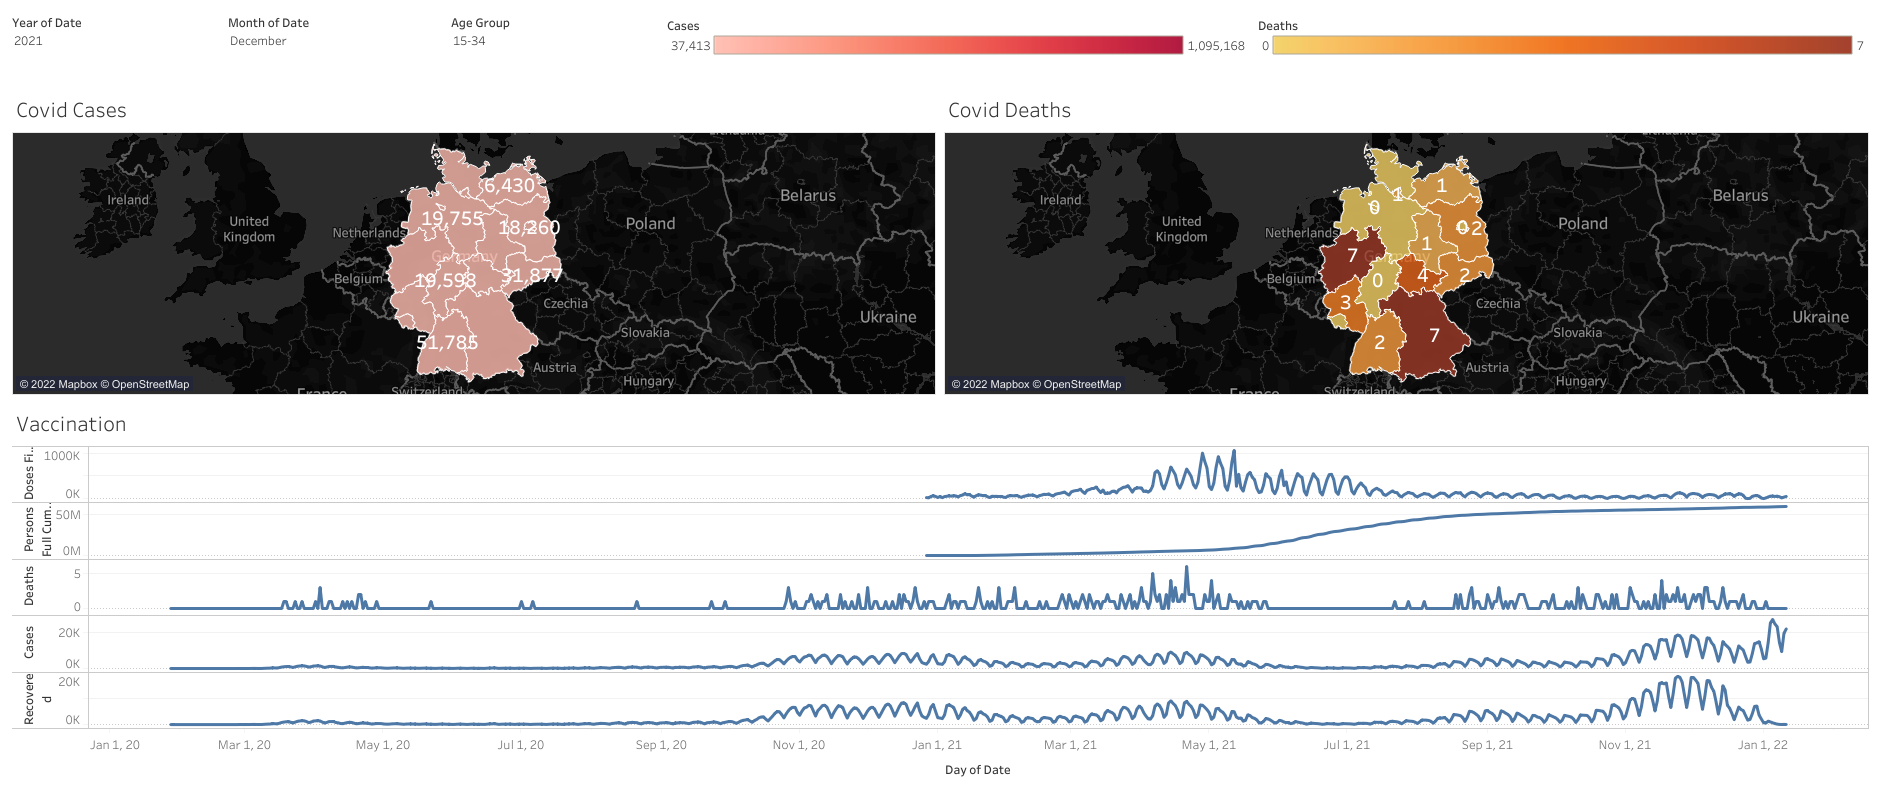

What the dashboard file says about the page in this screenshot:
{"tool":"tableau","page":{"name":"Covid Analysis in Germany","canvas":[1000,1000],"units":"permille","ordinal":0},"visuals":[{"type":"filter","title":"Covid Deaths","param":"[federated.0uc5llx0ka8o541am2q520jbo6i2].[yr:date:ok]","box":[4.7,8.8,126.4,96.3]},{"type":"filter","title":"Covid Deaths","param":"[federated.0uc5llx0ka8o541am2q520jbo6i2].[mn:date:ok]","box":[131.1,8.8,130.5,96.3]},{"type":"filter","title":"Covid Cases","param":"[federated.0uc5llx0ka8o541am2q520jbo6i2].[none:age_group:nk]","box":[261.6,8.8,126.4,96.3]},{"type":"legend","title":"Covid Cases","param":"[federated.0uc5llx0ka8o541am2q520jbo6i2].[sum:cases:qk]","box":[387.9,8.8,278.5,96.3]},{"type":"legend","title":"Covid Deaths","param":"[federated.0uc5llx0ka8o541am2q520jbo6i2].[sum:deaths:qk]","box":[666.5,8.8,328.9,96.3]},{"type":"worksheet","title":"Covid Cases","mark":"Automatic","box":[4.7,105.2,495.3,394.9]},{"type":"worksheet","title":"Covid Deaths","mark":"Automatic","box":[500,105.2,495.3,394.9]},{"type":"worksheet","title":"Vaccination","mark":"Automatic","rows":["doses_first","persons_full_cumul","deaths","cases","recovered"],"cols":["date"],"box":[4.7,500,990.6,491.2]}]}

Visuals, with their boxes on the dashboard's canvas, which has no fixed pixel size, in thousandths of its width and height (x1, y1, x2, y2). These are canvas units, not pixel positions in the 1880x797 screenshot, which may show the page scaled, cropped or inside an application window:
"Covid Deaths" filter: bbox(5, 9, 131, 105)
"Covid Deaths" filter: bbox(131, 9, 262, 105)
"Covid Cases" filter: bbox(262, 9, 388, 105)
"Covid Cases" legend: bbox(388, 9, 666, 105)
"Covid Deaths" legend: bbox(666, 9, 995, 105)
"Covid Cases" worksheet: bbox(5, 105, 500, 500)
"Covid Deaths" worksheet: bbox(500, 105, 995, 500)
"Vaccination" worksheet: bbox(5, 500, 995, 991)
